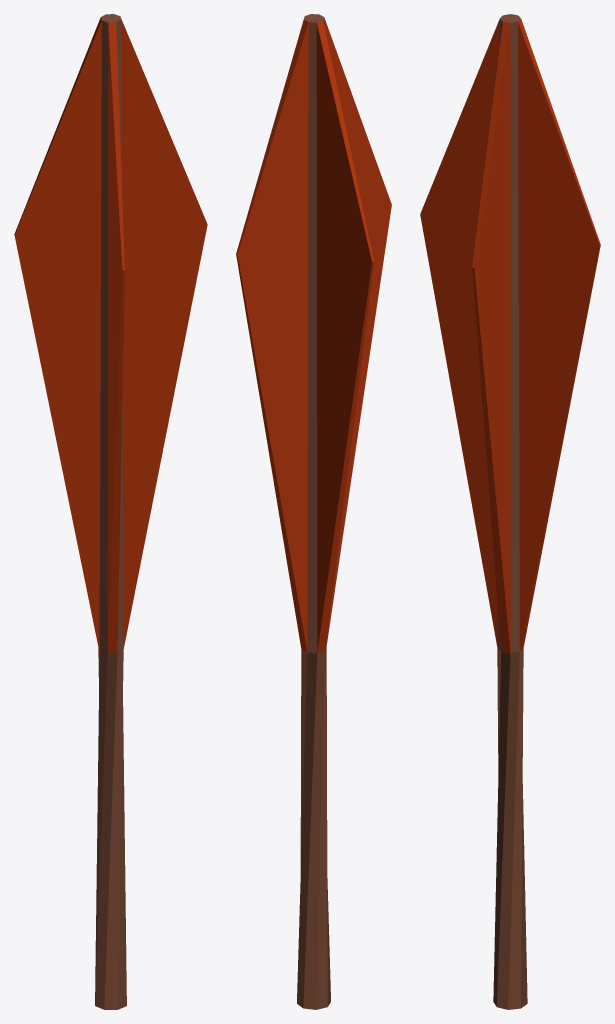
File: Tree_29_summer_red_vc.fbx
The picture shows the model from 3 angles, left to right: view 1: azimuth 30°, elevation 25°; view 2: azimuth 150°, elevation 25°; view 3: azimuth 270°, elevation 25°; orthographic projection.
Visible parts, largest first — view 1: Tree_29_summer_red_vc; view 2: Tree_29_summer_red_vc; view 3: Tree_29_summer_red_vc.
Part boxes in pixels (x1,y1,x2,y2): Tree_29_summer_red_vc: (14,14,207,1009); Tree_29_summer_red_vc: (236,14,391,1009); Tree_29_summer_red_vc: (420,14,600,1009).
Bounding box in the file's own units: 48.99 × 294 × 48.99.
